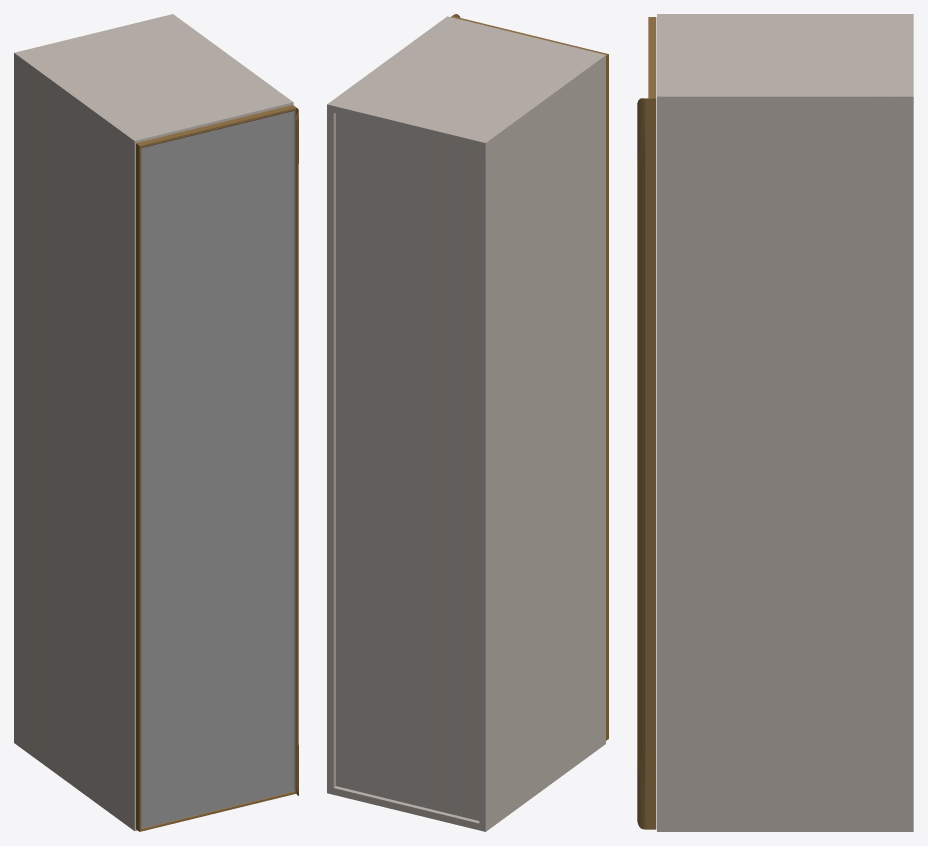
3 renders of one model, left to right at view 1: azimuth 30°, elevation 25°; view 2: azimuth 150°, elevation 25°; view 3: azimuth 270°, elevation 25°, orthographic. The views are drawn at different scales.
Parts seen in each view (by area): view 1: Object_13.002; view 2: Object_13.002; view 3: Object_13.002.
Boxes of the visible parts, x1=… form: Object_13.002: x1=14, y1=14, x2=298, y2=831; Object_13.002: x1=327, y1=14, x2=608, y2=831; Object_13.002: x1=637, y1=14, x2=913, y2=831.
Bounding box in the file's own units: 0.434 × 1.8 × 0.6136.
Materials: 3 (2 with a texture image).
